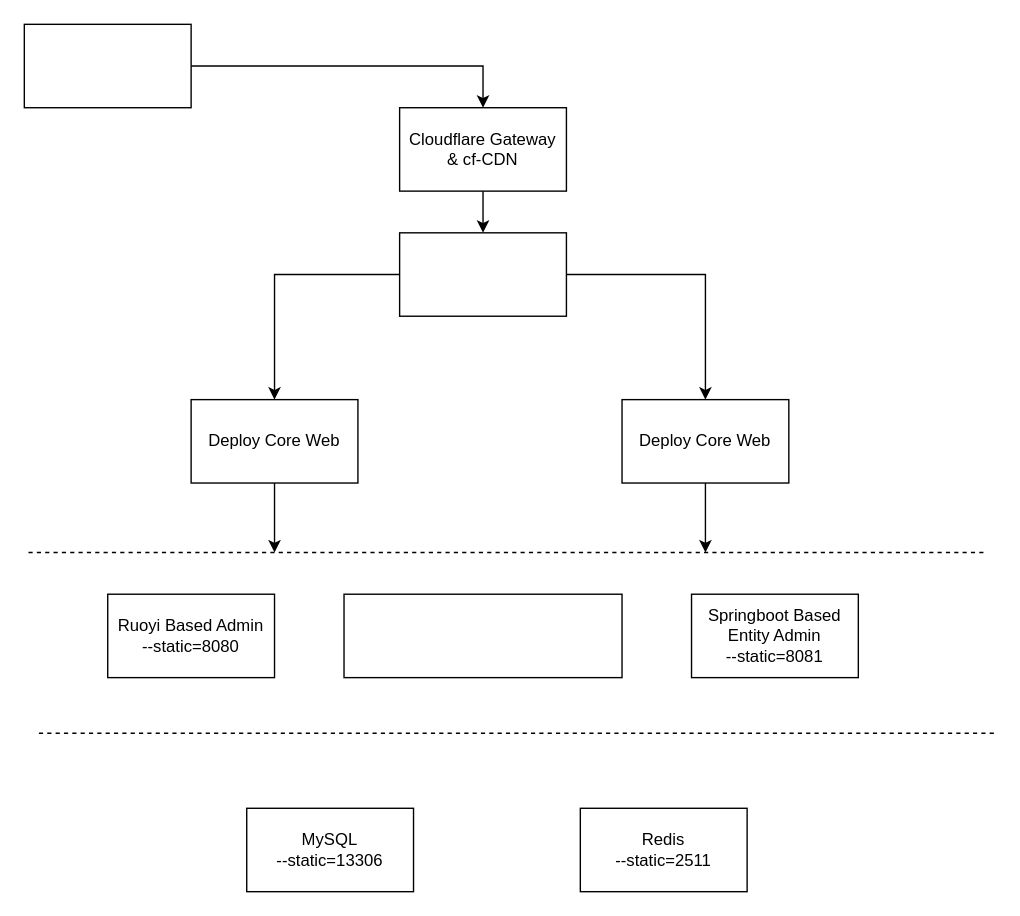
Some shapes in this 1020 by 916 pixel diagram are drawn without their labels. The box of each missing label's shape, as (x1, y1, x2, y2) in pixels:
FastAPI Based HTML Render --static=80: (343, 593, 622, 678)
Outer network access: (23, 23, 191, 108)
Proxy Gateway nginx: (398, 231, 566, 316)
